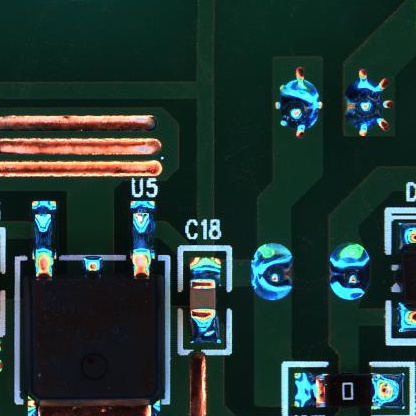spot: (344, 67, 395, 139), (275, 66, 323, 138), (328, 242, 372, 302), (250, 242, 293, 303)
